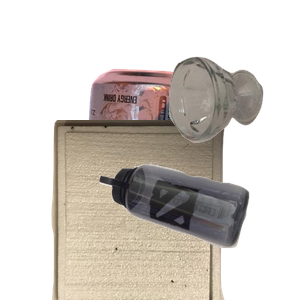glass: (166, 54, 300, 189)
metal: (82, 66, 270, 246)
plastic: (97, 162, 300, 300)
trash: (49, 120, 269, 300)
